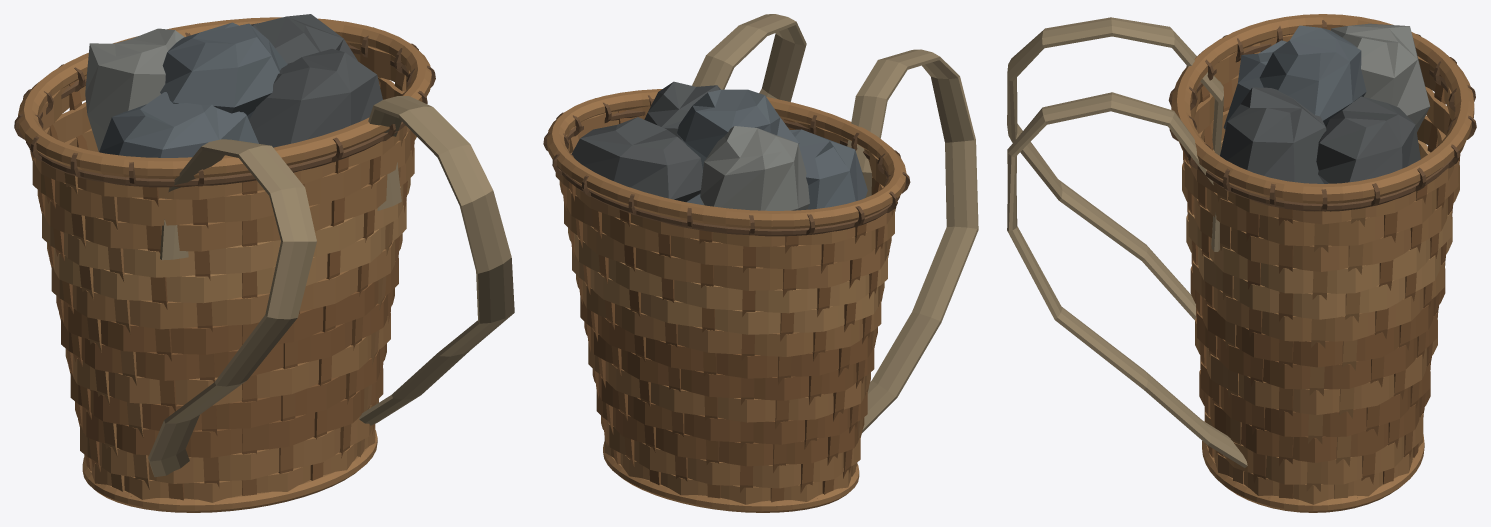
File: OrePannier.fbx
3 views of the same model, side by side, from view 1: azimuth 30°, elevation 25°; view 2: azimuth 150°, elevation 25°; view 3: azimuth 270°, elevation 25° (orthographic). The views are drawn at different scales.
Parts seen in each view (by area): view 1: Woven carrier, Stone load; view 2: Woven carrier, Stone load; view 3: Woven carrier, Stone load.
Part boxes in pixels (bbox=[...]): Woven carrier: bbox=[14, 17, 514, 512]; Stone load: bbox=[85, 14, 382, 157]; Woven carrier: bbox=[543, 14, 978, 512]; Stone load: bbox=[571, 81, 867, 210]; Woven carrier: bbox=[1007, 14, 1476, 512]; Stone load: bbox=[1220, 23, 1430, 183].
Size of the model in its own units: 51.28 by 54.32 by 56.21.
